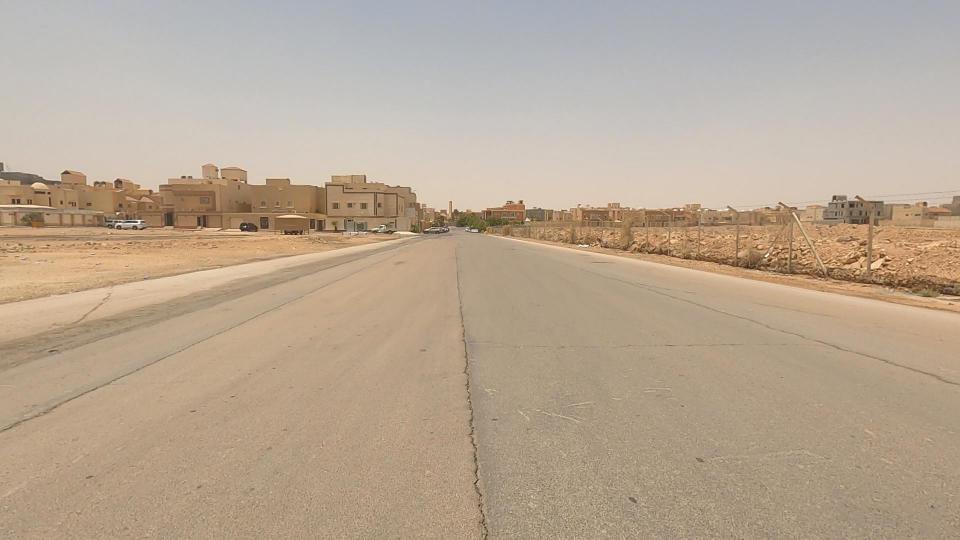GARBAGE: (561, 221, 607, 267)
